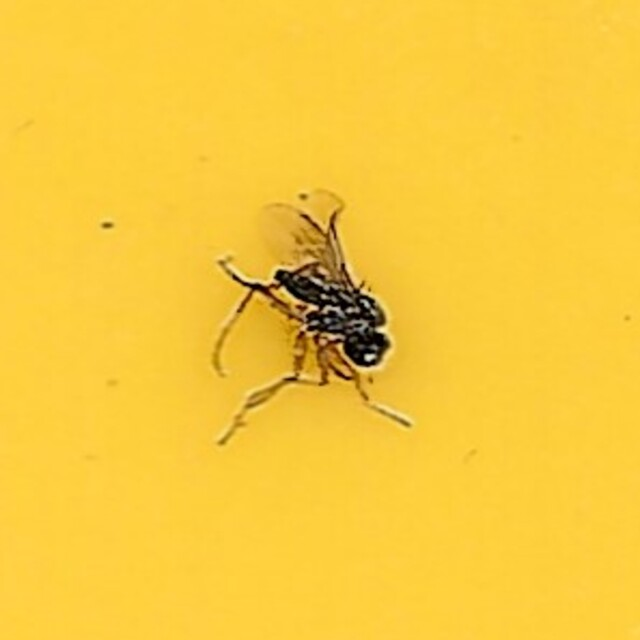Brachycera: (215, 188, 425, 452)
